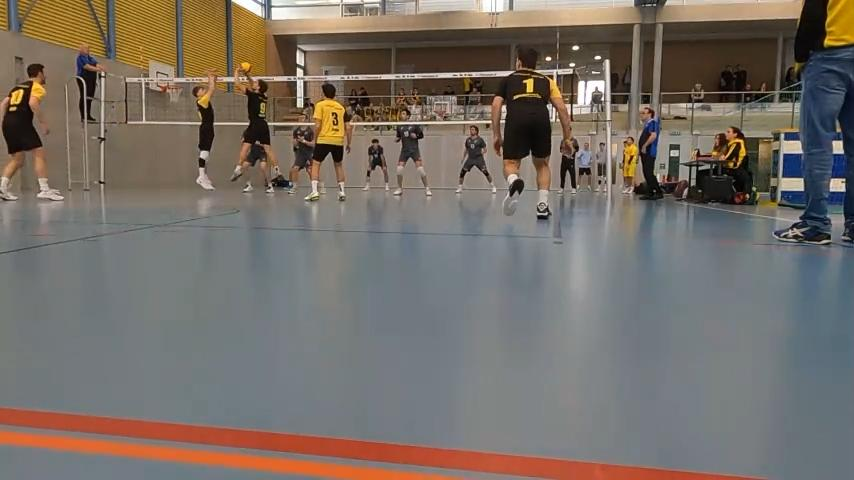Player: (492, 48, 571, 218), (0, 64, 63, 200), (305, 83, 351, 200), (192, 71, 216, 189), (393, 123, 431, 195), (456, 125, 496, 193), (287, 125, 314, 193), (241, 143, 273, 192), (363, 138, 388, 190)
Set: (224, 66, 280, 192)
ball: (238, 61, 252, 73)
